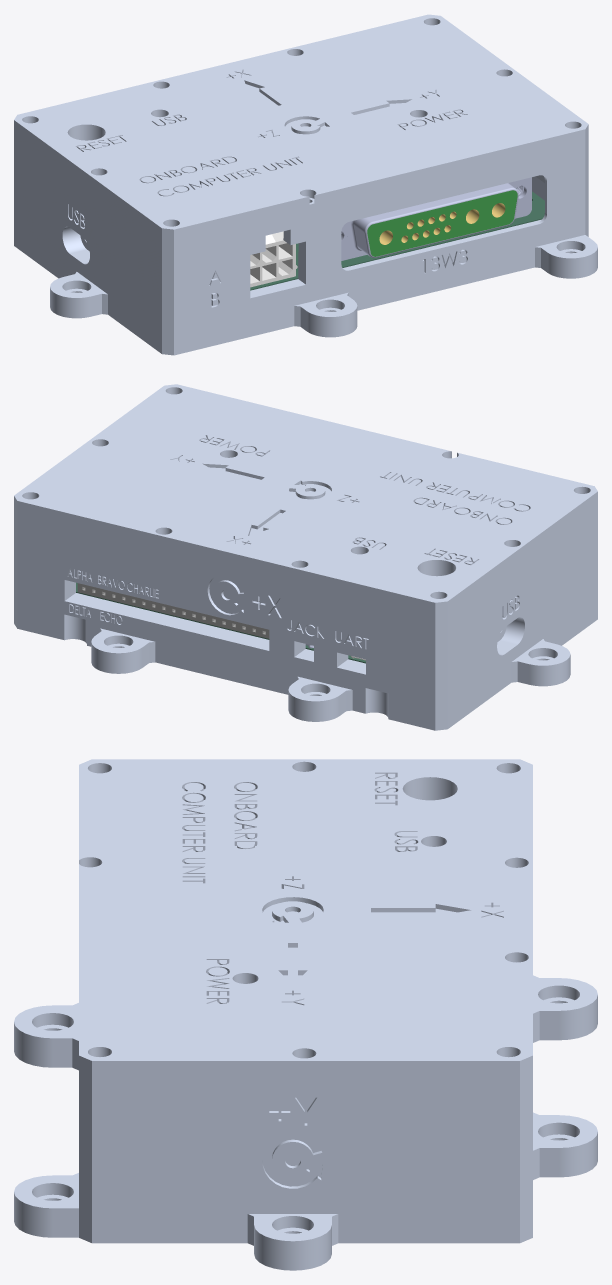
The model's file is Computer_Unit_Generic.glb.
3 views of the same model, one above another, from view 1: azimuth 30°, elevation 25°; view 2: azimuth 150°, elevation 25°; view 3: azimuth 270°, elevation 25° (orthographic). The views are drawn at different scales.
Visible parts, largest first — view 1: Computer_Unit_Generic; view 2: Computer_Unit_Generic; view 3: Computer_Unit_Generic.
Boxes of the visible parts, x1=… form: Computer_Unit_Generic: x1=14, y1=14, x2=597, y2=355; Computer_Unit_Generic: x1=14, y1=384, x2=597, y2=730; Computer_Unit_Generic: x1=14, y1=759, x2=597, y2=1270.
Size of the model in its own units: 0.13 by 0.031 by 0.09.
